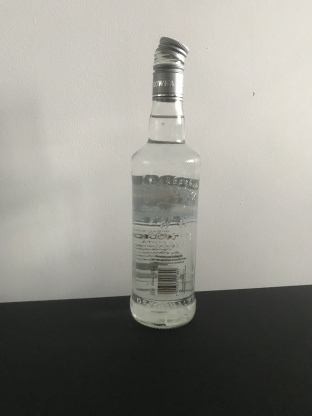nakretka: (151, 34, 189, 103)
